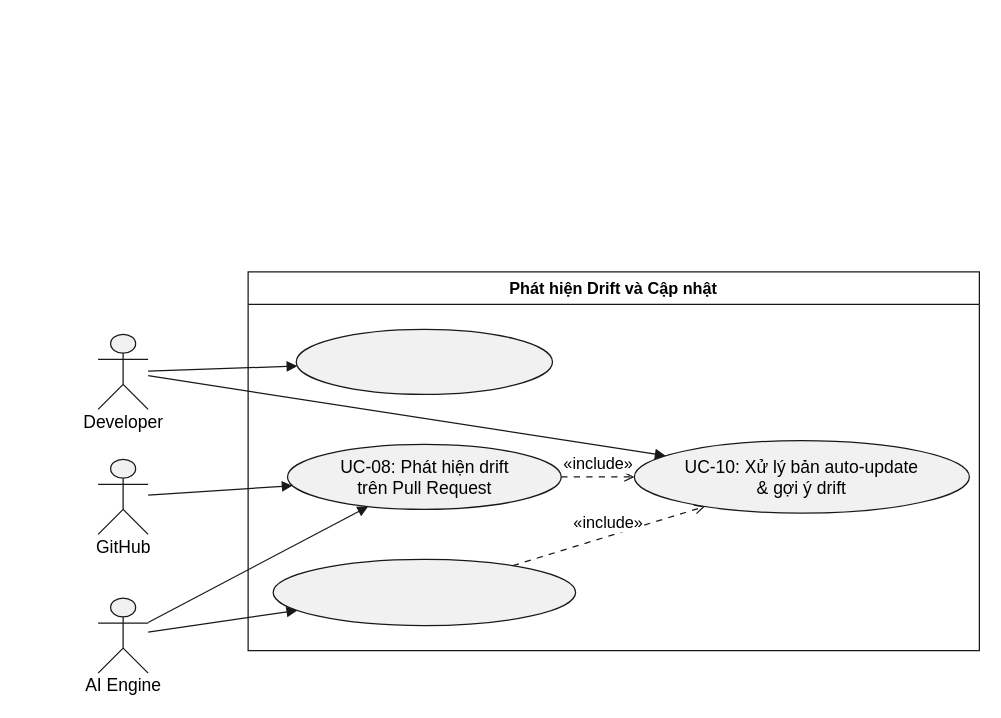
Image size: 1001x718. Some labels were removed from this diagram. The shapes that lost their labels are listed below. From the top down, each one's box as (x1, y1, x2, y2) in pixels, then its label:
(295, 328, 552, 394): Kích hoạt phân tích drift thủ công
(272, 558, 576, 626): UC-09: Tự động cập nhật khi code thay đổi
